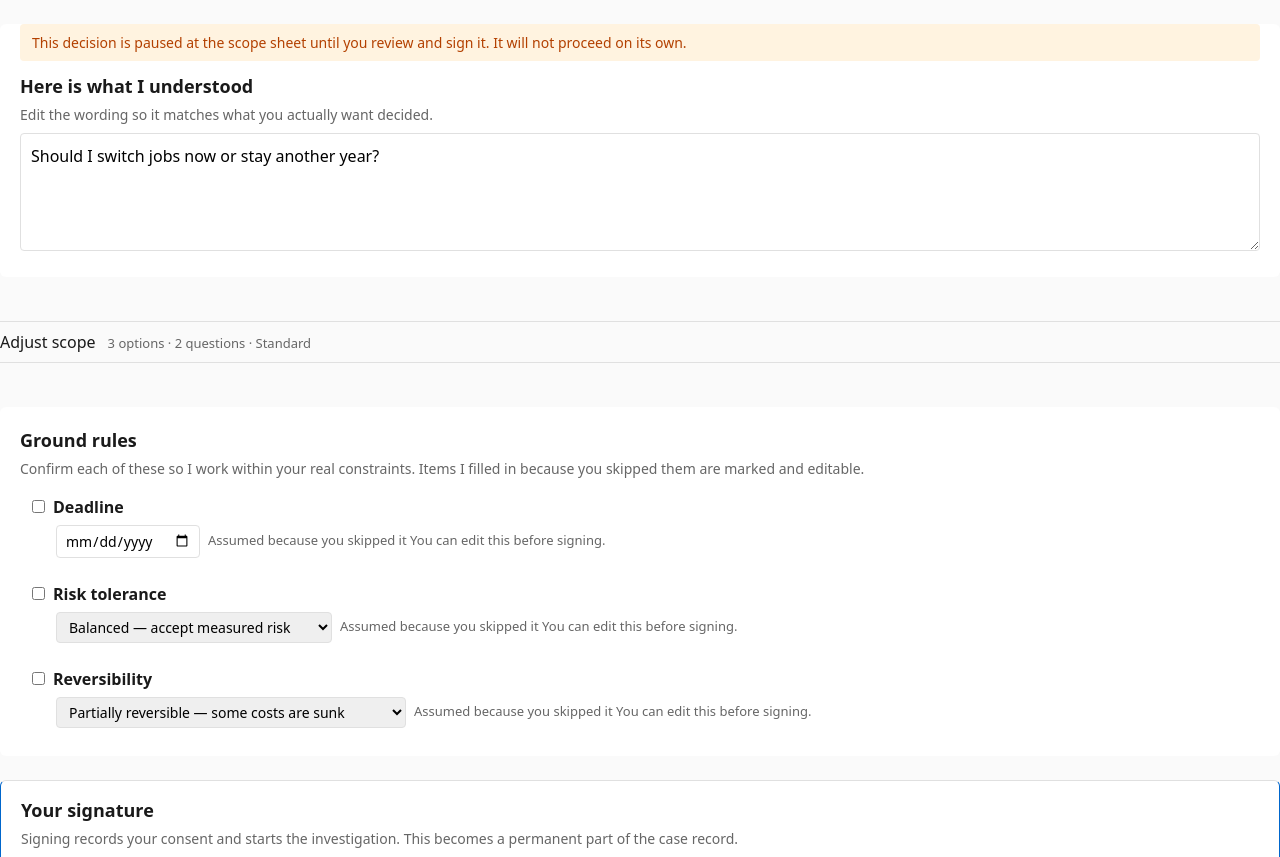
Test: ScopeCheckpoint confirmation gating › disables Sign & begin until all ground rules are confirmed
Expected: the heading "Here is what I understood" is shown, [20,74,253,98]
Click the checkbox labelled "Deadline". click: (38, 506)
box: [32,500,45,513]
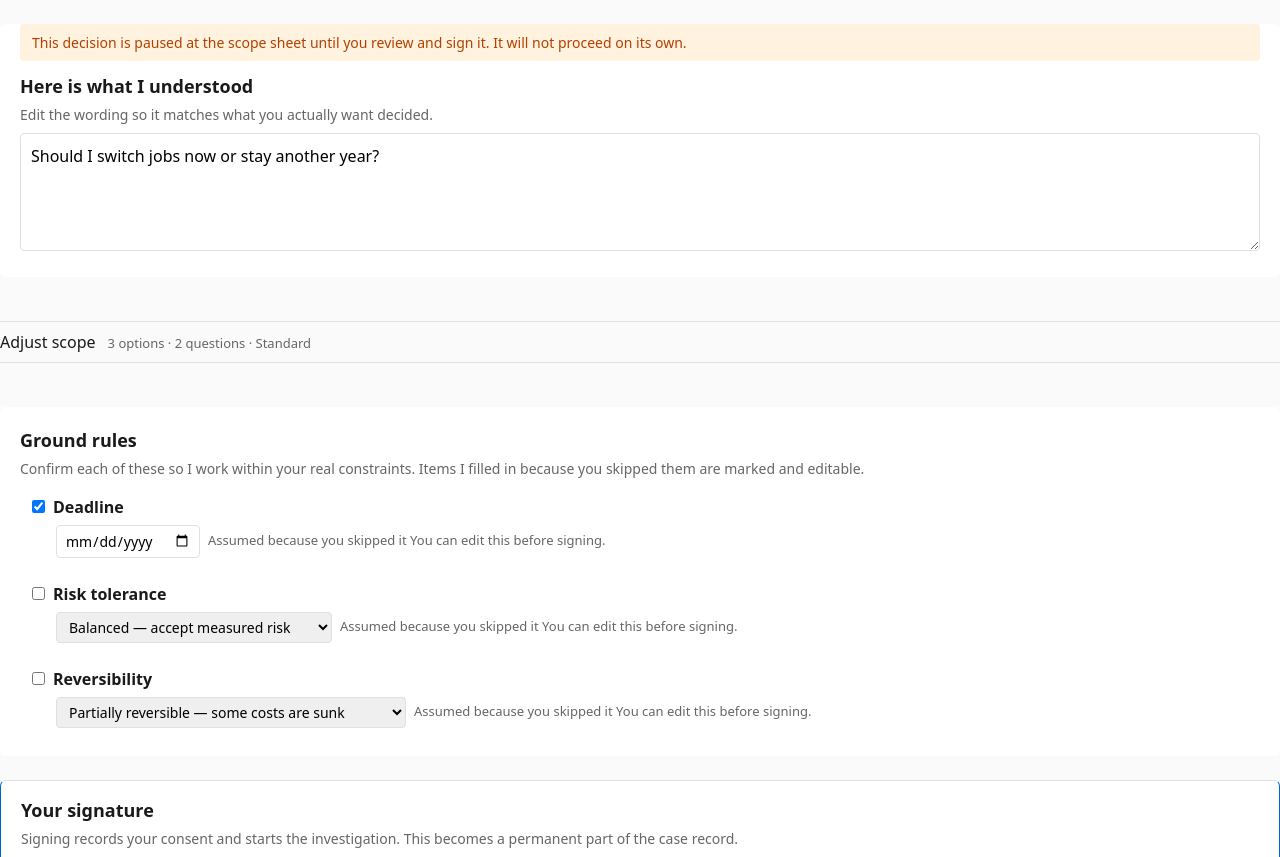
Click the checkbox labelled "Risk tolerance". click: (38, 594)
box: [32,587,45,600]
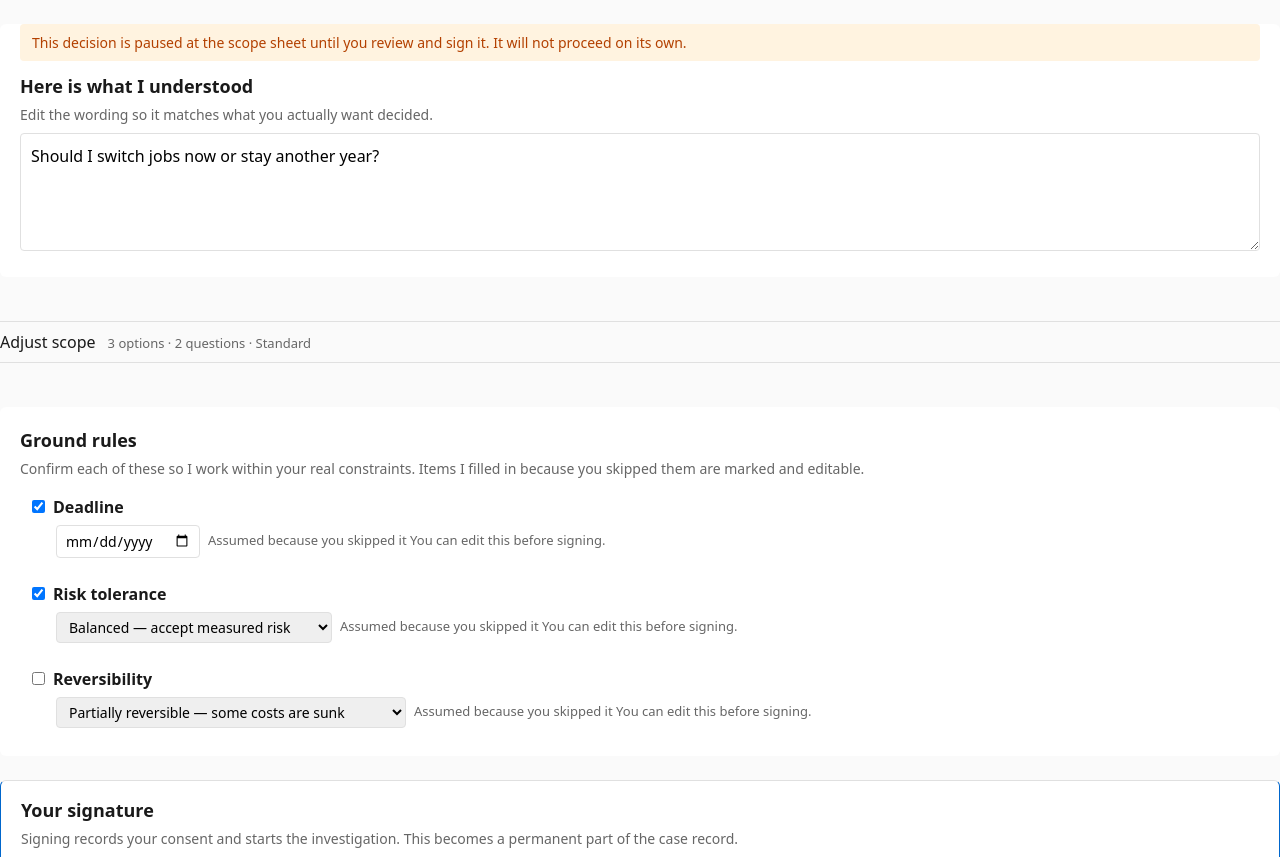
Click the checkbox labelled "Reversibility". click: (38, 678)
box: [32,672,45,685]
(page scrolled)
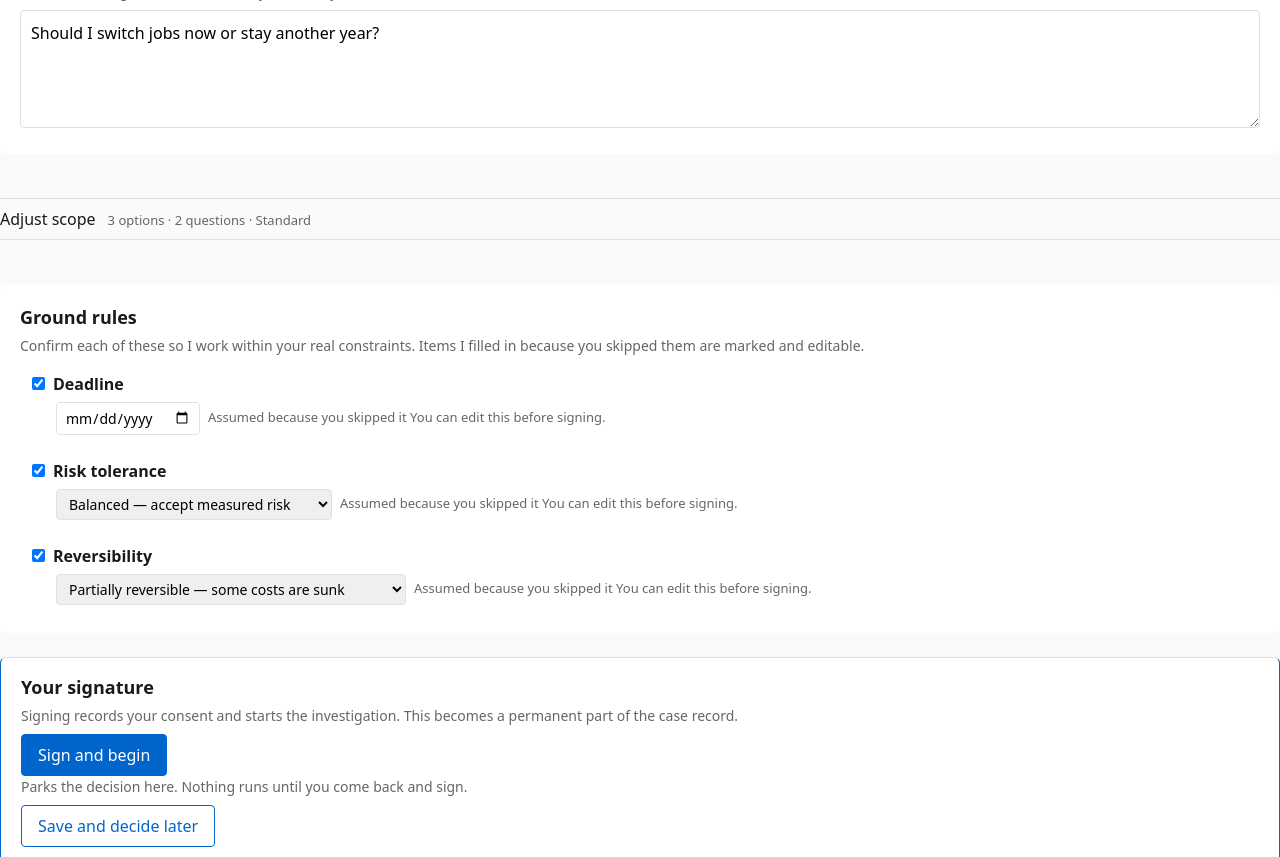
Expected: the button "Sign and begin" is enabled, [21,734,167,776]
